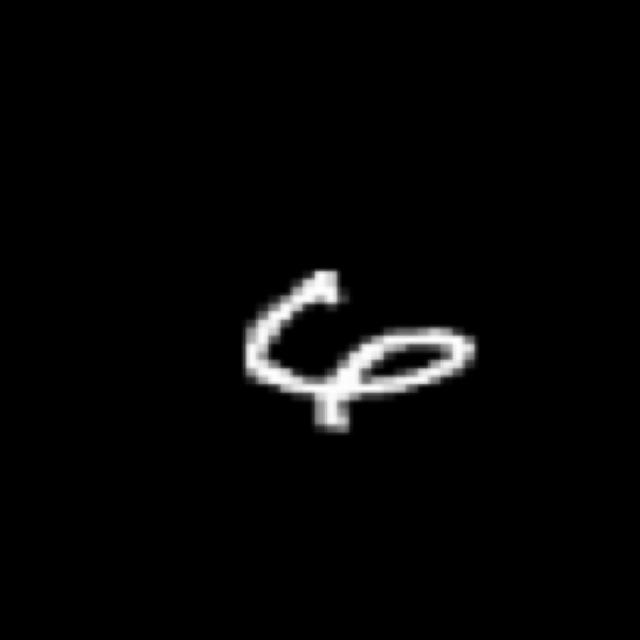six -6-: (228, 258, 488, 438)
